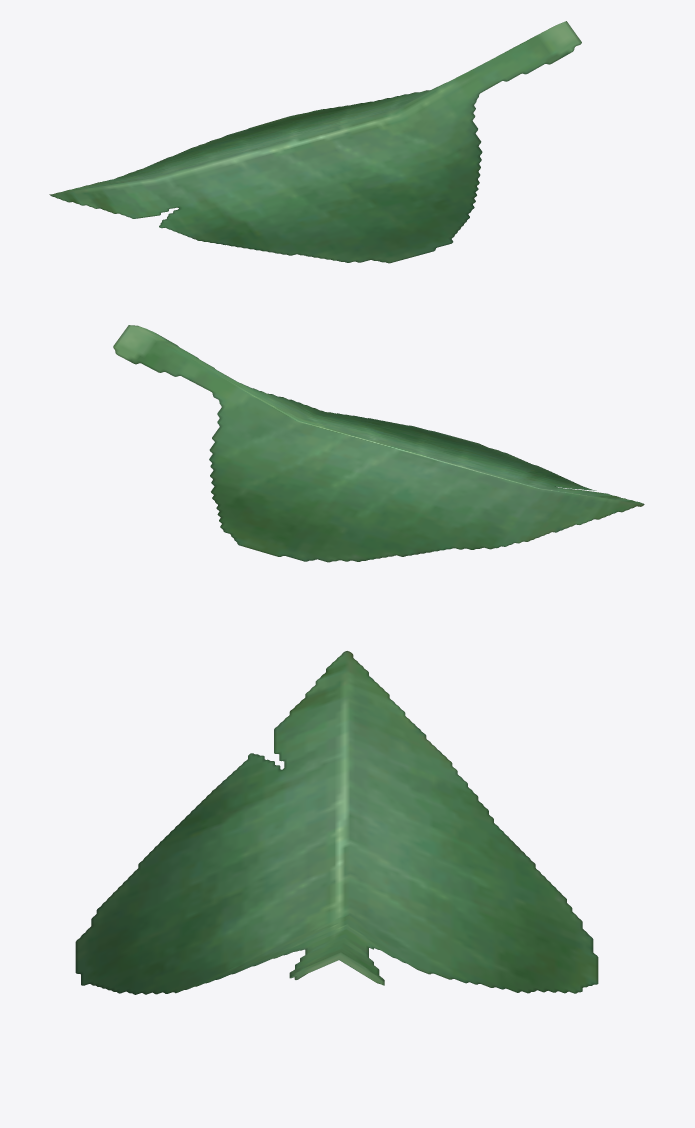
Rendered from obj_maprmu002.glb.
3 views of the same model, one above another, from view 1: azimuth 30°, elevation 25°; view 2: azimuth 150°, elevation 25°; view 3: azimuth 270°, elevation 25° (orthographic). The views are drawn at different scales.
Parts seen in each view (by area): view 1: part_0; view 2: part_0; view 3: part_0.
Boxes of the visible parts, <box> form: part_0: <box>49,21,581,263</box>; part_0: <box>113,325,644,562</box>; part_0: <box>75,651,598,994</box>.
Size of the model in its own units: 0.3144 by 0.0689 by 0.2084.
1 material, 1 textured.
